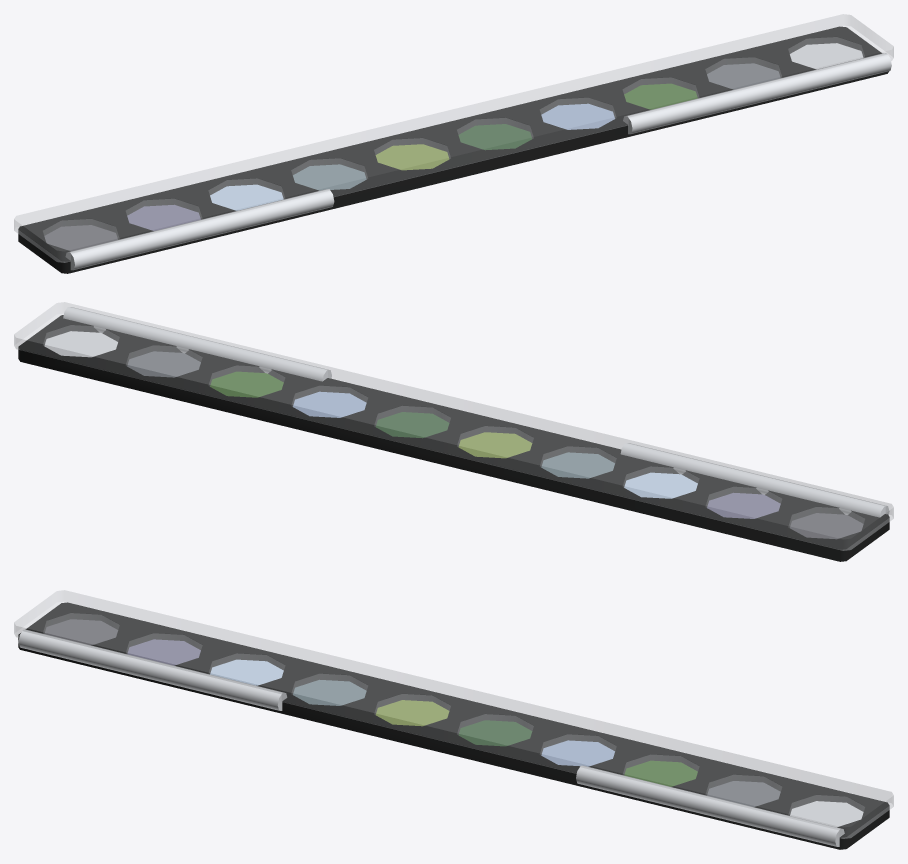
File: make_up_pallete_005.fbx
3 renders of one model, top to bottom at view 1: azimuth 30°, elevation 25°; view 2: azimuth 150°, elevation 25°; view 3: azimuth 330°, elevation 25°, orthographic.
Parts seen in each view (by area): view 1: make up_pallete.005, make up_pallete_cover.004; view 2: make up_pallete.005, make up_pallete_cover.004; view 3: make up_pallete.005, make up_pallete_cover.004.
Boxes of the visible parts, x1=… form: make up_pallete.005: x1=18, y1=26, x2=891, y2=273; make up_pallete_cover.004: x1=14, y1=14, x2=893, y2=262; make up_pallete.005: x1=18, y1=307, x2=889, y2=561; make up_pallete_cover.004: x1=14, y1=302, x2=893, y2=550; make up_pallete.005: x1=18, y1=602, x2=889, y2=849; make up_pallete_cover.004: x1=14, y1=590, x2=893, y2=838.
Size of the model in its own units: 4643 by 125 by 506.
2 materials, 2 textured.
